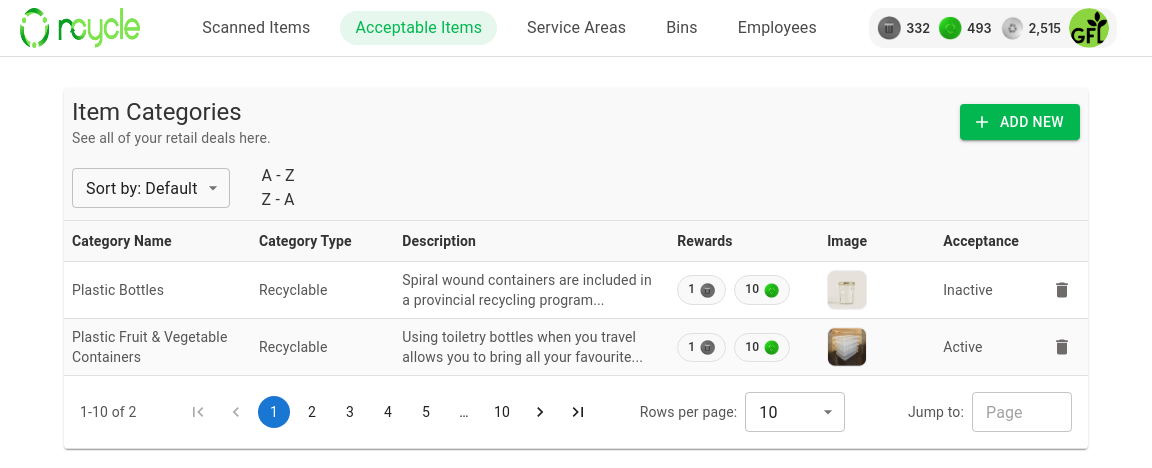
Test: ItemCategories Component › deletes an item
Click the button without text in the row of "Plastic Bottles".
click(1062, 290)  # box [1044,272,1080,308]
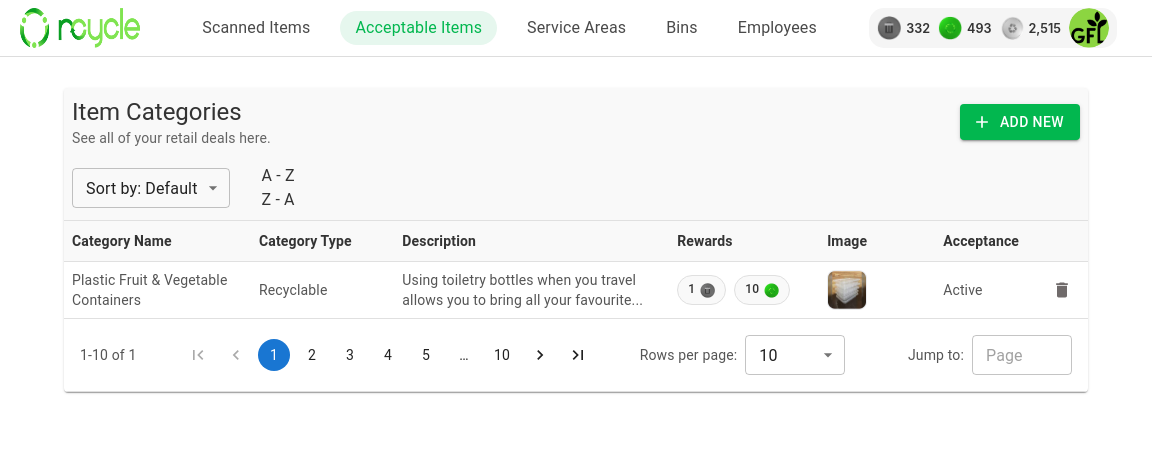
Result: the text "Plastic Bottles" is gone
